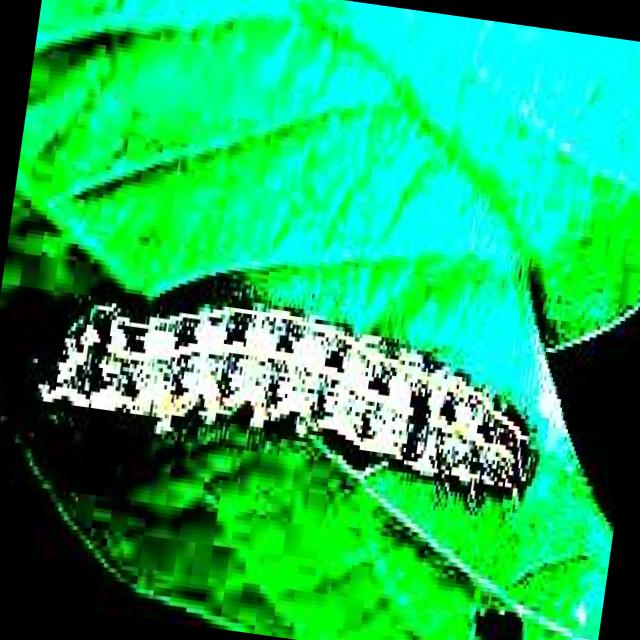Armyworm: (1, 142, 580, 612)
